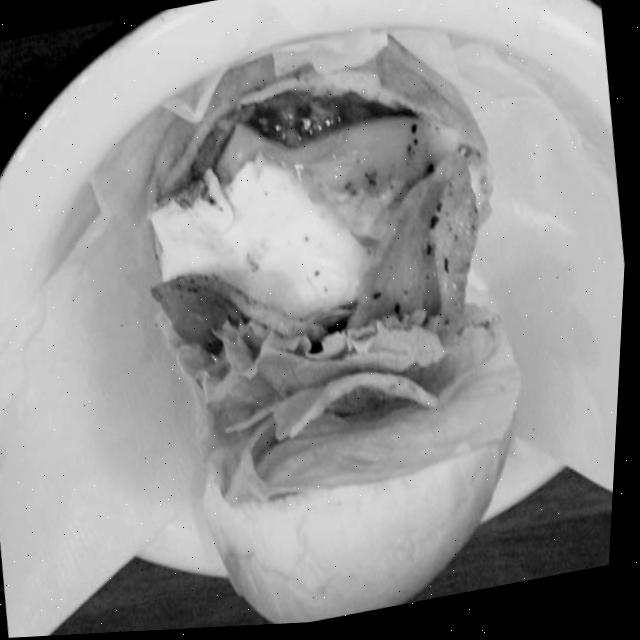汉堡快餐: (113, 8, 562, 634)
